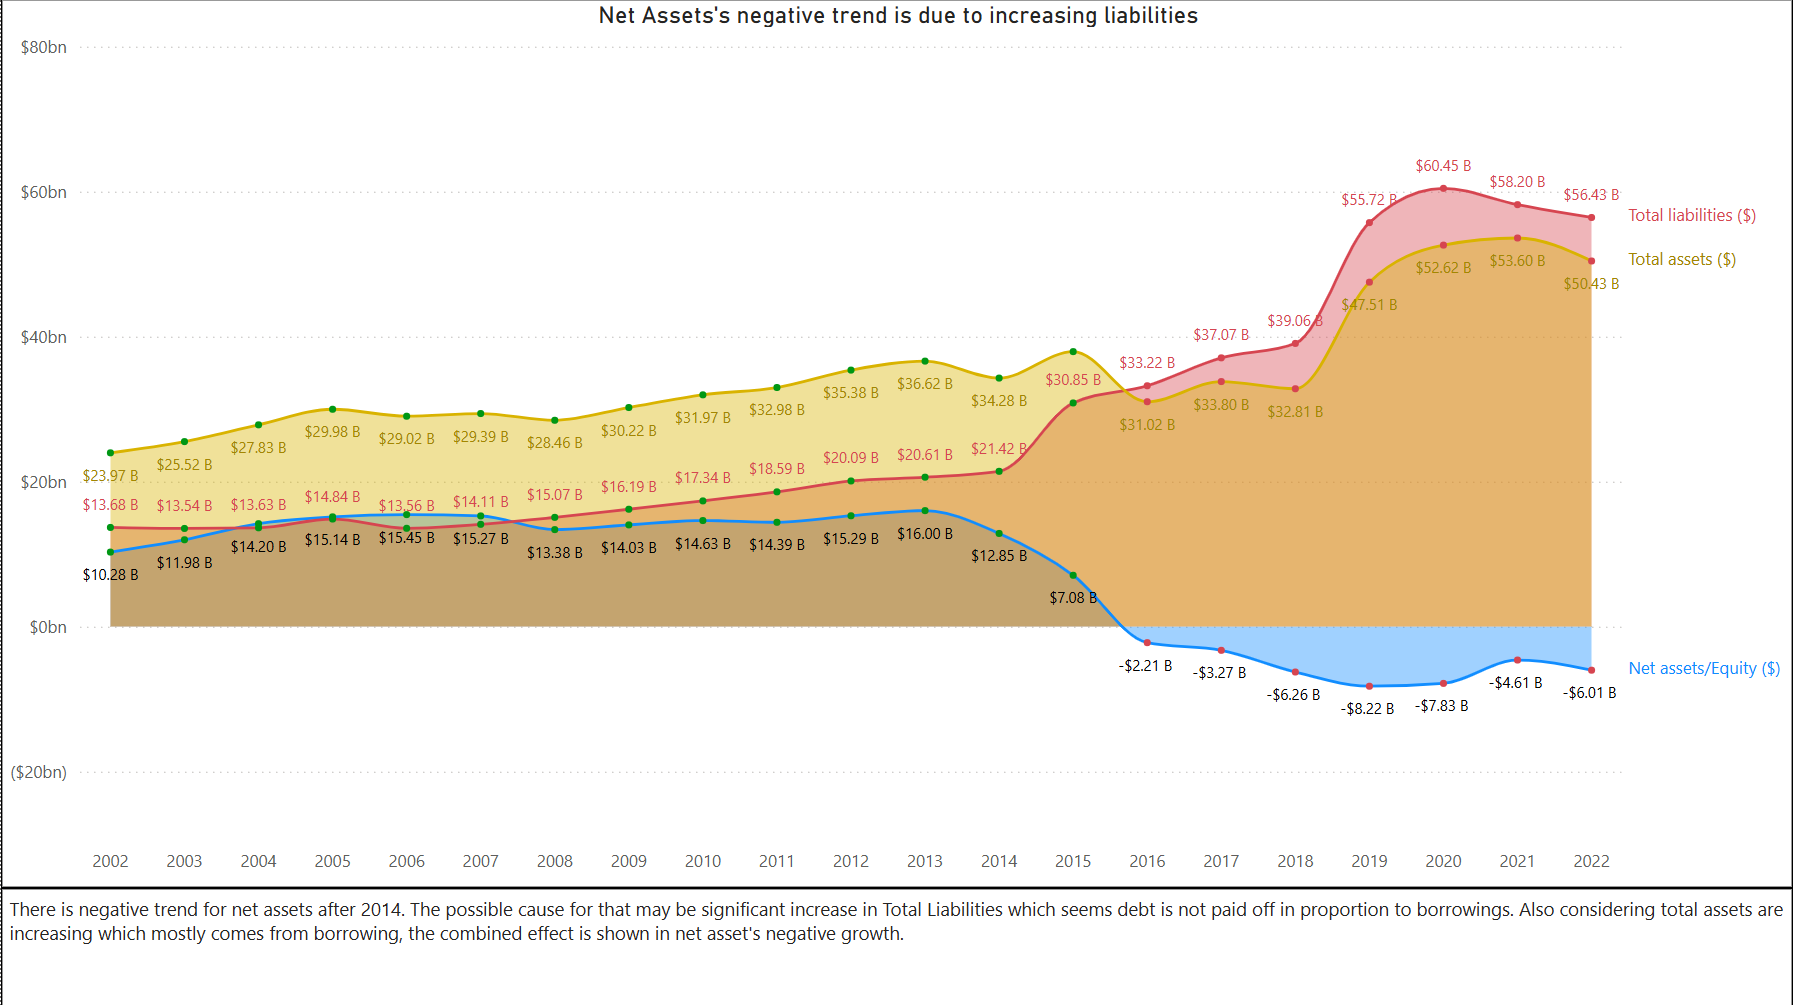

Layout of this report page (visuals, bound fields, positions):
{"tool":"powerbi","page":{"name":"Net Assets","canvas":[1280,720],"ordinal":2},"visuals":[{"type":"lineChart","title":"Net Assets''s negative trend is due to increasing liabilities","fields":{"Category":["MCD.Date.Variation.Date Hierarchy.Year"],"Y":["Sum(MCD.Net assets/Equity ($))","Sum(MCD.Total liabilities ($))","Sum(MCD.Total assets ($))"]},"box":[0,0,1280,634.7],"z":0},{"type":"textbox","box":[0,634.7,1280,85.3],"z":1}]}

Visuals, with their boxes in screenshot pixels (x1, y1, x2, y2), scaled from the page's 1280x720 canvas onto the 1793x1005 screenshot:
"Net Assets''s negative trend is due to increasing liabilities" lineChart: 0, 0, 1792, 886
textbox: 0, 886, 1792, 1004
